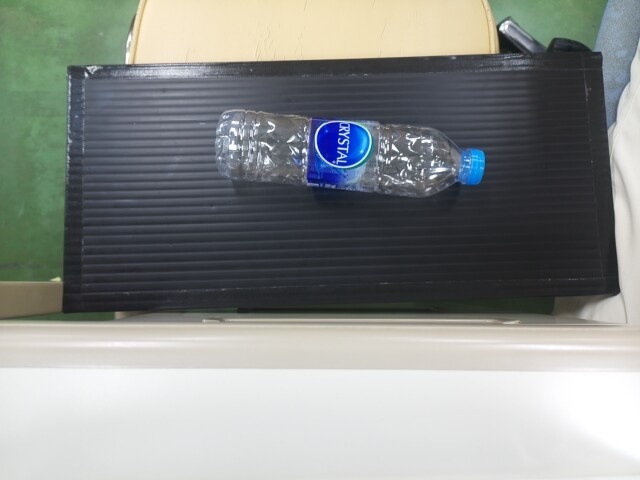plastic_bottle: (213, 104, 484, 197)
